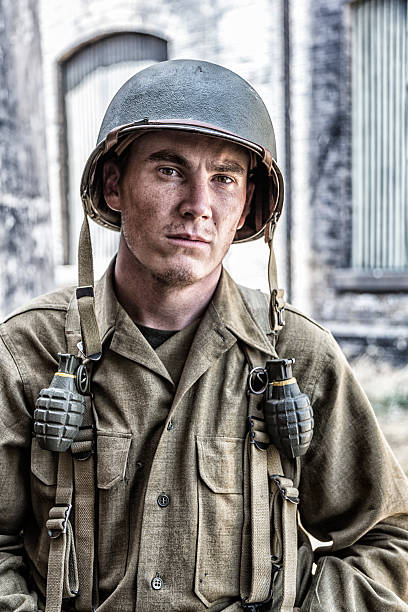e1: (246, 352, 316, 460), (32, 351, 96, 451)
